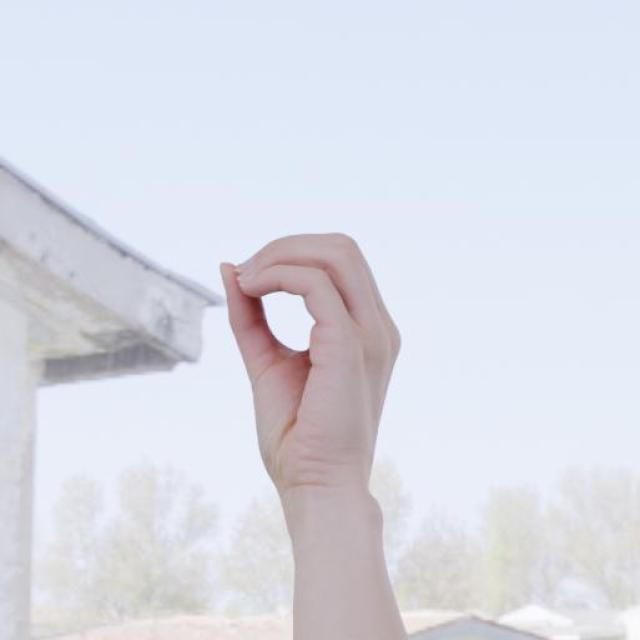O: (217, 228, 404, 494)
